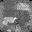people: (2, 17, 18, 25)
